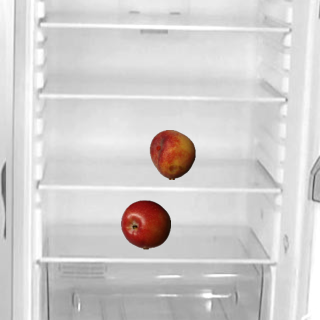Apple Braeburn: (120, 199, 170, 249)
Peach: (147, 129, 197, 179)
